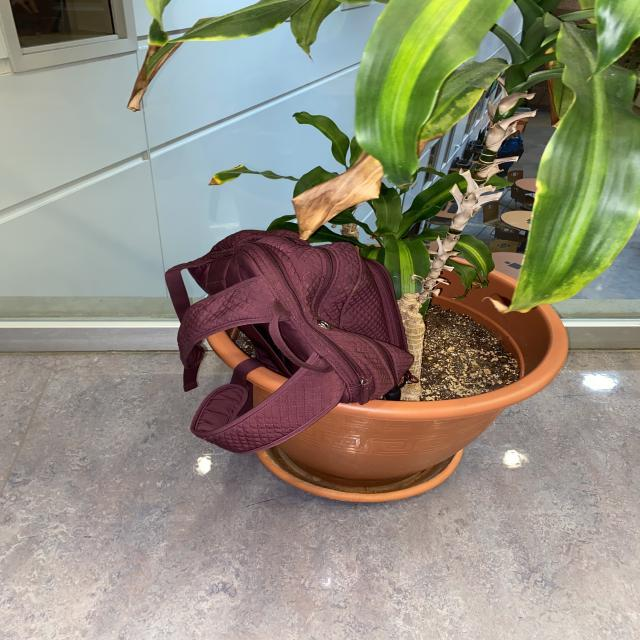Backpacks: (166, 230, 408, 412)
